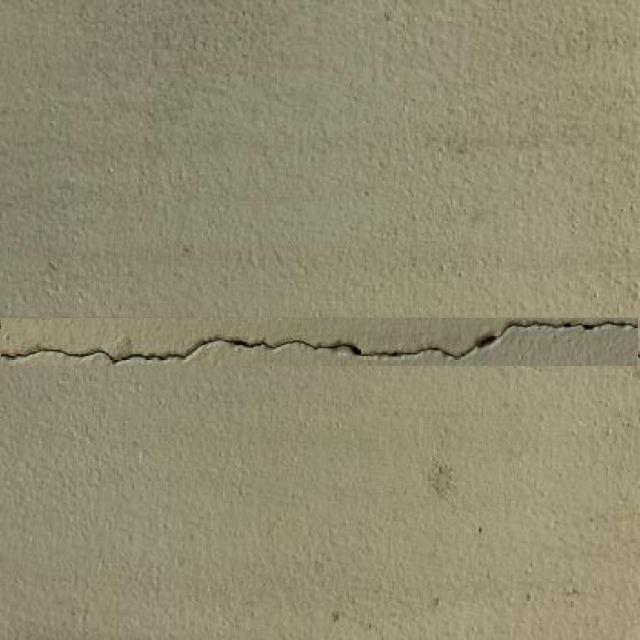horizontal crack: (2, 318, 638, 366)
